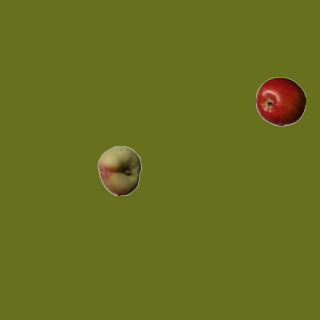Apple Braeburn: (255, 76, 305, 126)
Peach Flat: (94, 145, 144, 195)
